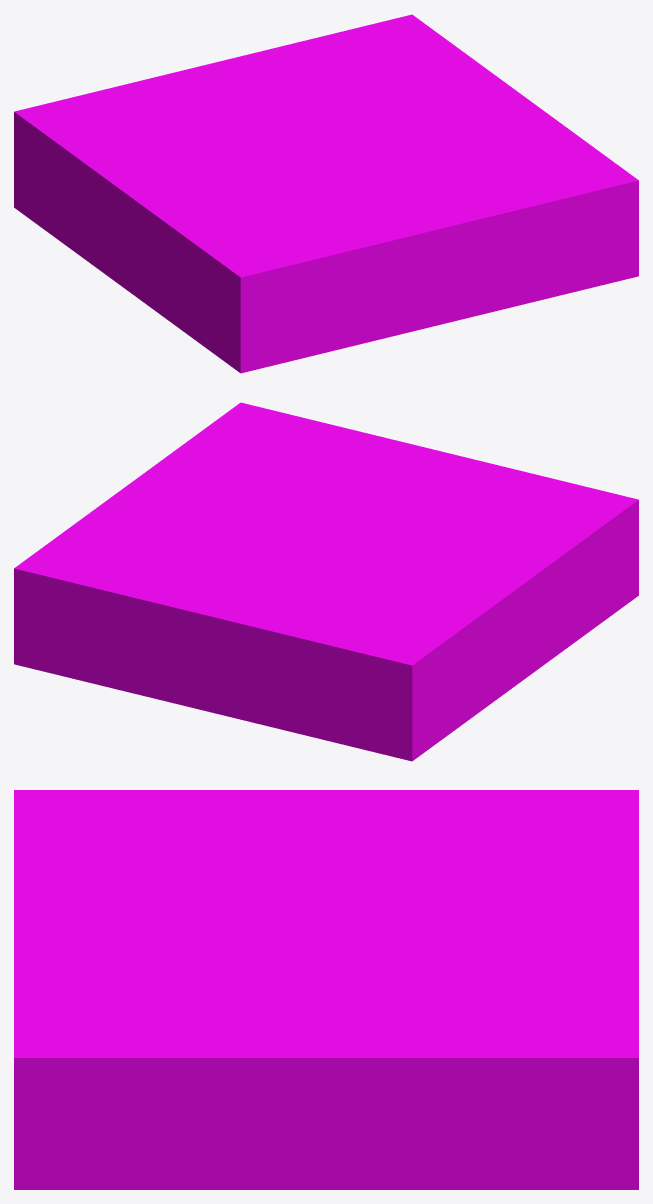
Rendered from platform_36x36.glb.
3 views of the same model, one above another, from view 1: azimuth 30°, elevation 25°; view 2: azimuth 150°, elevation 25°; view 3: azimuth 270°, elevation 25° (orthographic). The views are drawn at different scales.
Visible parts, largest first — view 1: Cube_015-mesh; view 2: Cube_015-mesh; view 3: Cube_015-mesh.
Boxes of the visible parts, left/top/right/bottom form: Cube_015-mesh: left=14, top=14, right=638, bottom=373; Cube_015-mesh: left=14, top=402, right=638, bottom=761; Cube_015-mesh: left=14, top=790, right=638, bottom=1189.
Bounding box in the file's own units: 37.35 × 8.59 × 36.83.
